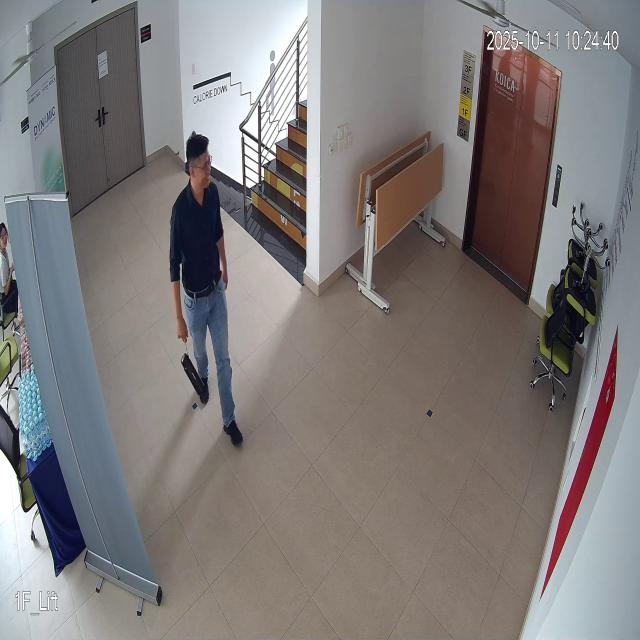face: (183, 130, 214, 198)
